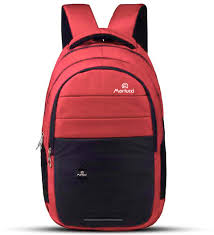bag: (45, 1, 168, 228)
